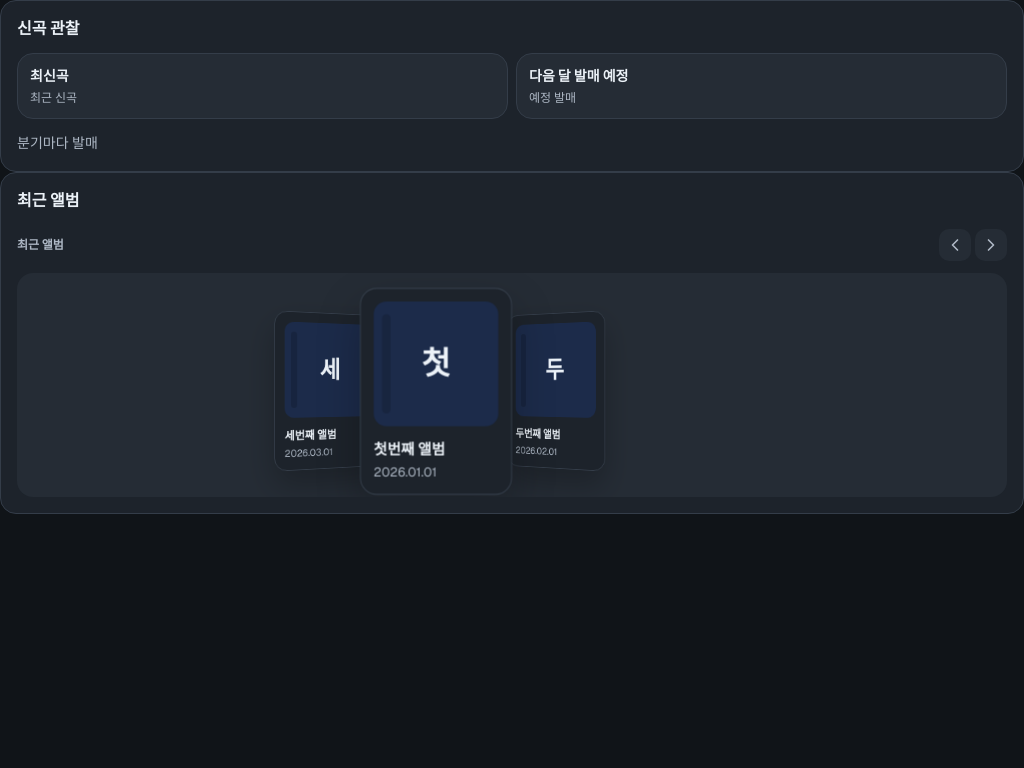
Test: ArtistDetailSection › 모달을 닫았다가 다른 앨범을 열면 트랙 선택 상태가 초기화된다
This screenshot has width=1024, height=768.
첫 번째 앨범을 열어 트랙을 선택한 뒤 닫고
Click the button "첫 첫번째 앨범 2026.01.01": (436, 391) [360,288,512,495]
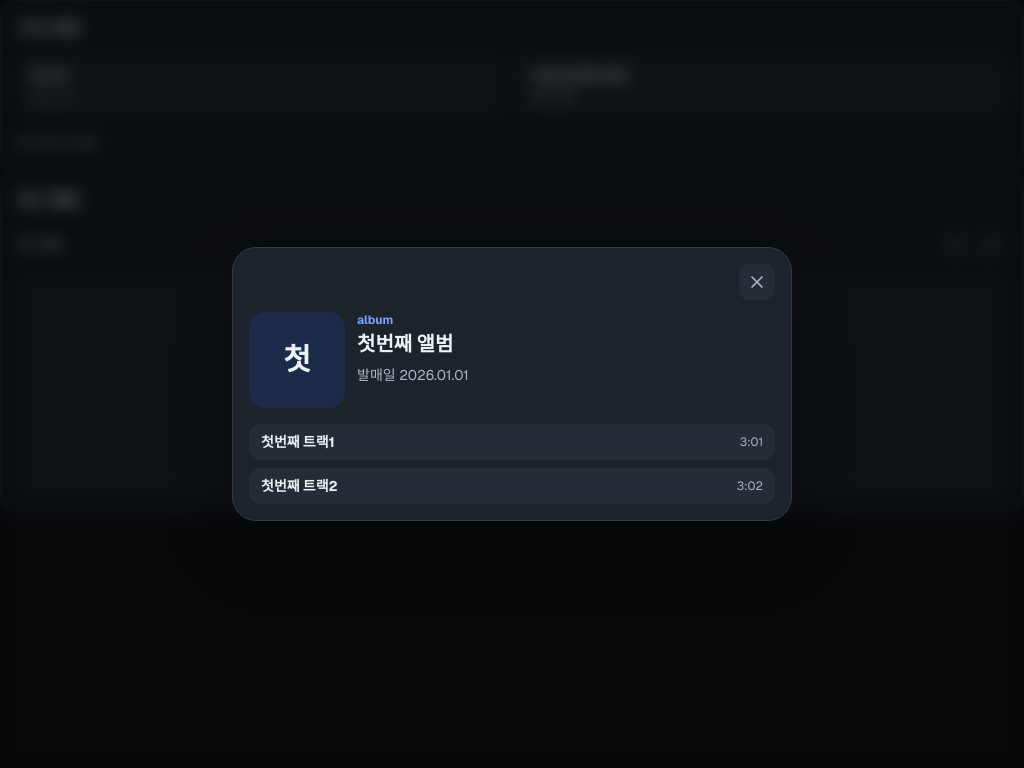
Click the button "첫번째 트랙1 3:01": (298, 442) [249,424,775,460]
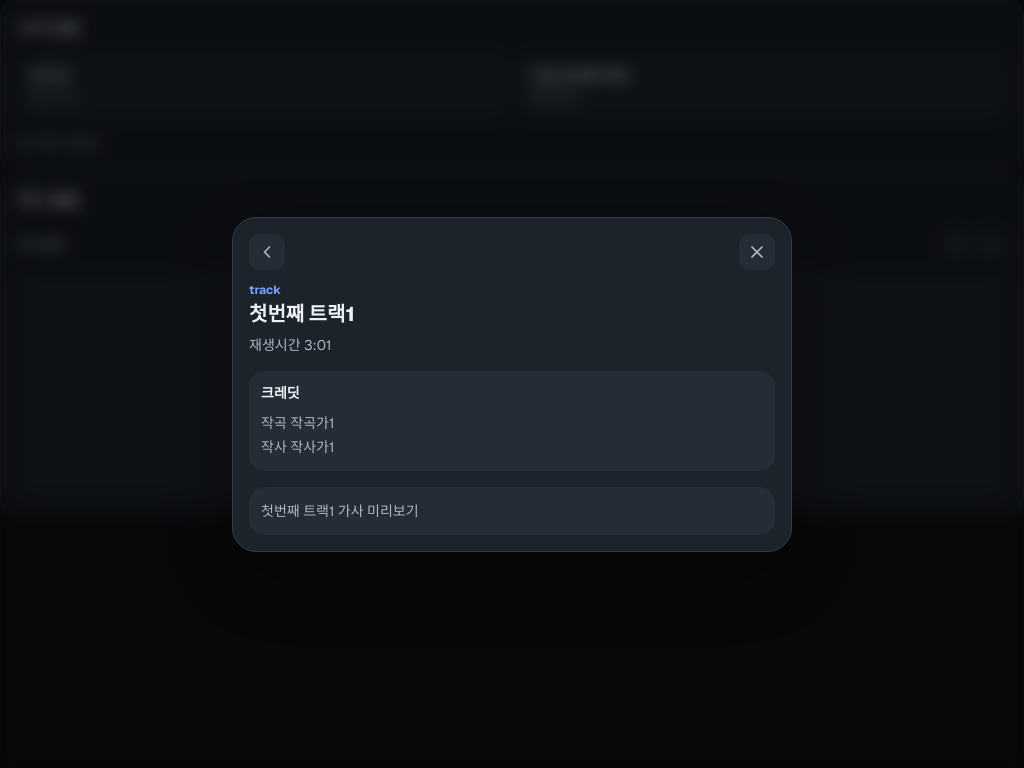
Click the button named "앨범 상세 닫기": (757, 252) [739,234,775,270]
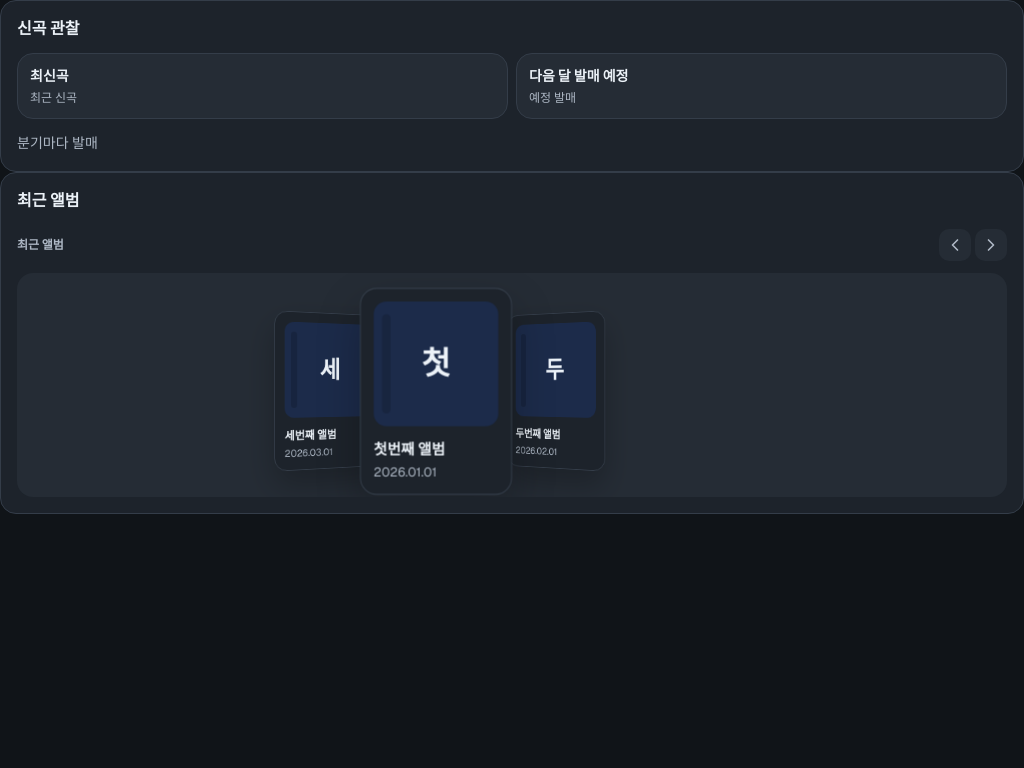
Click the button "두 두번째 앨범 2026.02.01": (556, 391) [507,310,605,472]
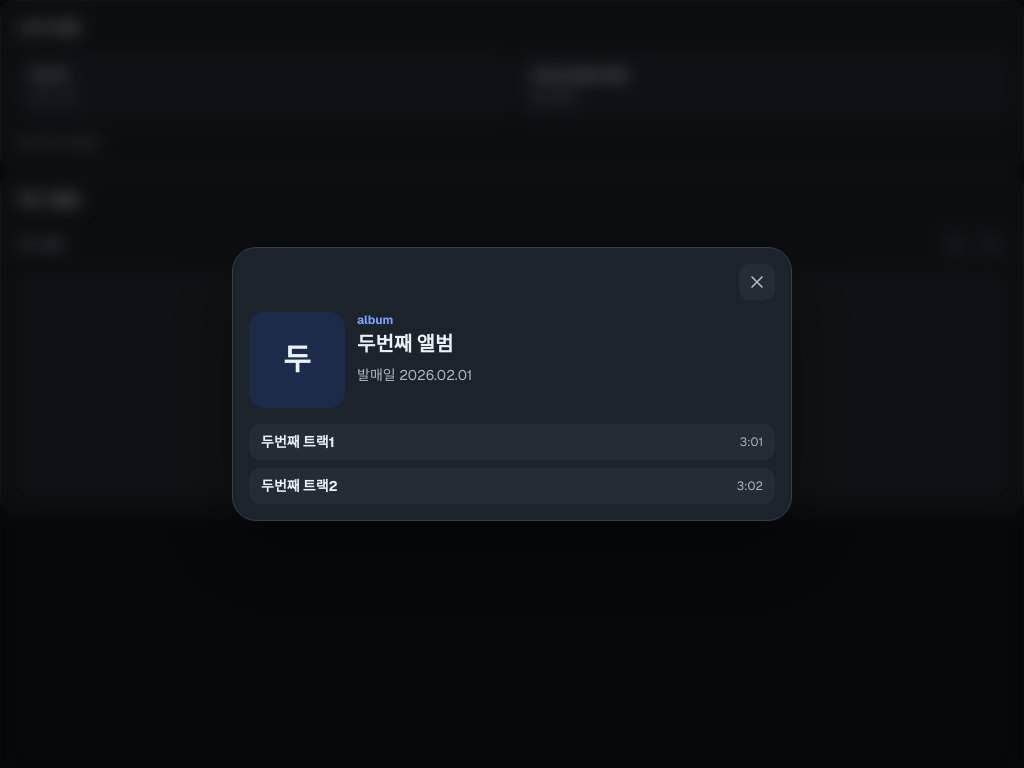
Expected: the dialog "두번째 앨범" is shown, [232,247,792,521]
